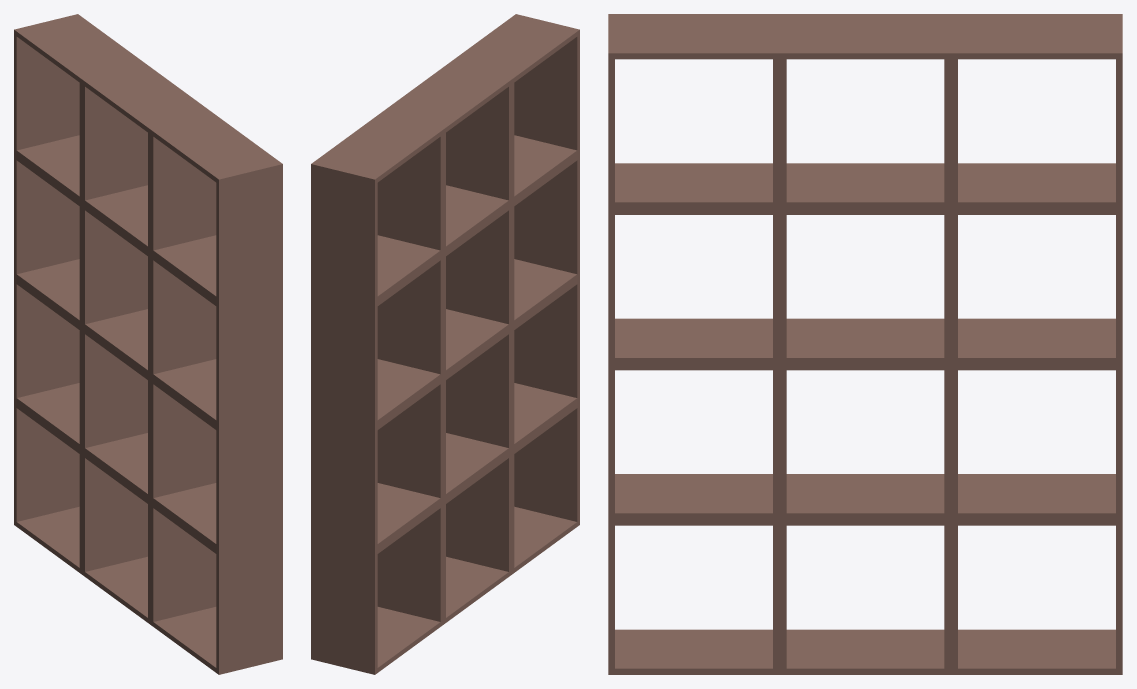
Rendered from Bookcase10.fbx.
The picture shows the model from 3 angles, left to right: view 1: azimuth 30°, elevation 25°; view 2: azimuth 150°, elevation 25°; view 3: azimuth 270°, elevation 25°; orthographic projection. The views are drawn at different scales.
Visible parts, largest first — view 1: Bookcase10; view 2: Bookcase10; view 3: Bookcase10.
Boxes of the visible parts, x1,y1,x2,y2 form: Bookcase10: (14,14,282,674); Bookcase10: (311,14,579,674); Bookcase10: (608,14,1122,674).
Bounding box in the file's own units: 0.2703 × 1.5 × 2.
